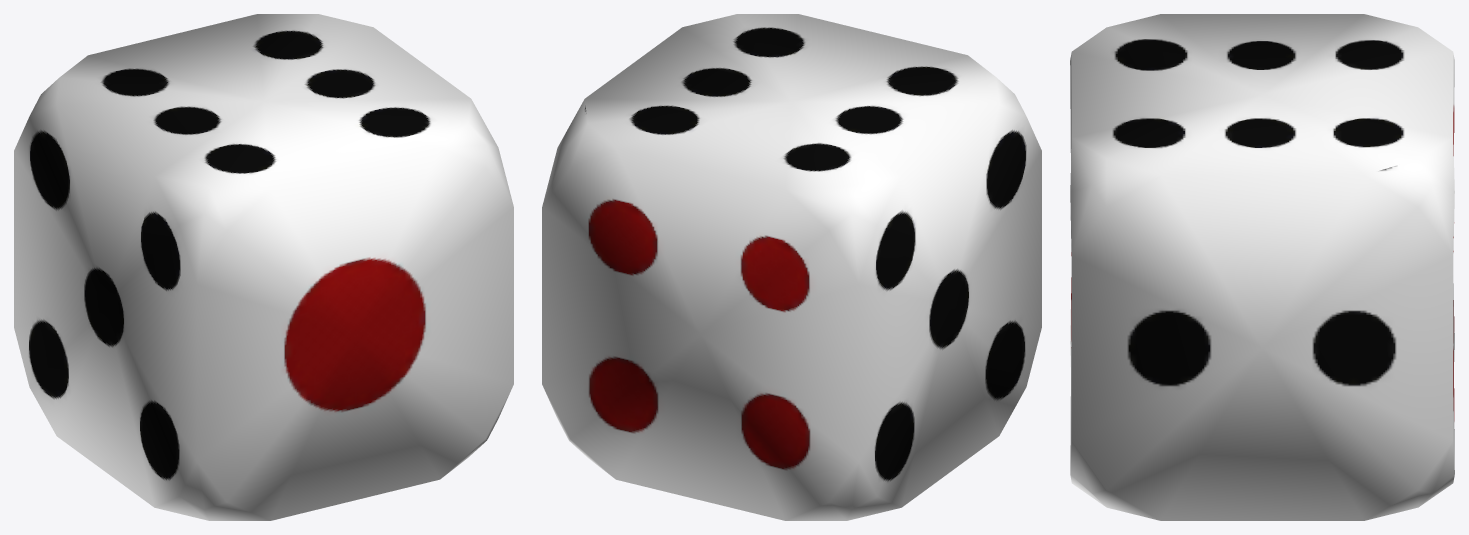
The model's file is shaizi_01.FBX.
3 renders of one model, left to right at view 1: azimuth 30°, elevation 25°; view 2: azimuth 150°, elevation 25°; view 3: azimuth 270°, elevation 25°, orthographic. The views are drawn at different scales.
Parts seen in each view (by area): view 1: shaizi_01; view 2: shaizi_01; view 3: shaizi_01.
Boxes of the visible parts, box(x1,y1,x2,y2) form: shaizi_01: box(14, 14, 513, 520); shaizi_01: box(542, 14, 1041, 520); shaizi_01: box(1070, 14, 1454, 520).
Size of the model in its own units: 1.12 by 1.12 by 1.12.
